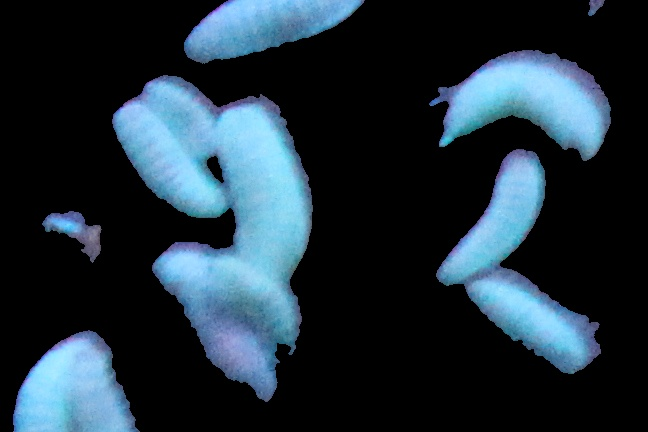larvae: (438, 56, 612, 156), (215, 105, 310, 283), (153, 237, 303, 343), (437, 152, 541, 286), (111, 102, 225, 219), (467, 277, 596, 372), (185, 1, 364, 64), (174, 297, 280, 399), (11, 334, 86, 432), (69, 342, 137, 432), (141, 83, 220, 158)
